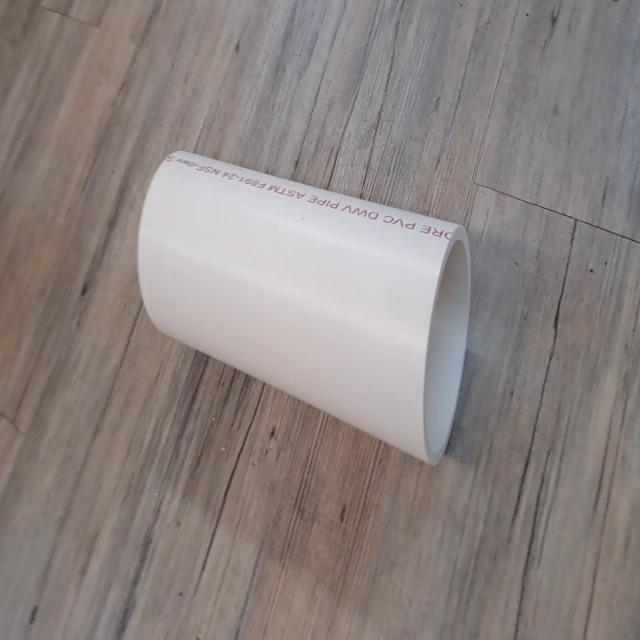CORAL: (129, 137, 477, 480)
